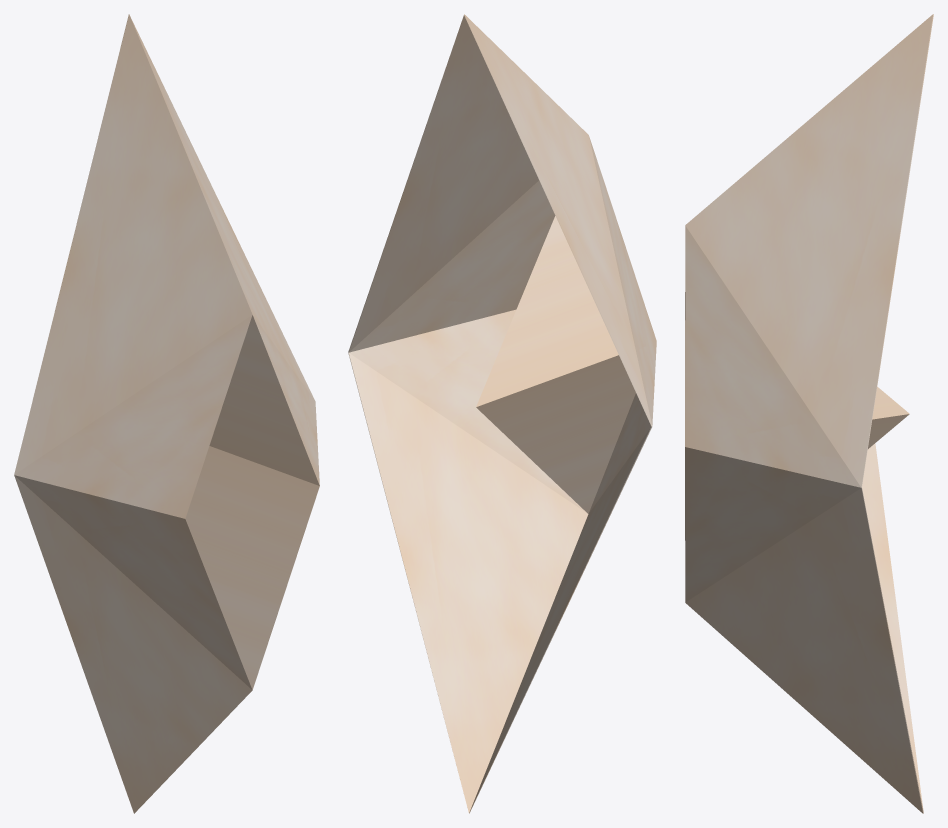
The model's file is paper_boat.glb.
The picture shows the model from 3 angles, left to right: view 1: azimuth 30°, elevation 25°; view 2: azimuth 150°, elevation 25°; view 3: azimuth 270°, elevation 25°; orthographic projection.
Visible parts, largest first — view 1: Paper Boat_0; view 2: Paper Boat_0; view 3: Paper Boat_0.
Part boxes in pixels (bbox=[...]): Paper Boat_0: bbox=[14, 14, 319, 813]; Paper Boat_0: bbox=[348, 14, 656, 813]; Paper Boat_0: bbox=[685, 14, 933, 813].
Size of the model in its own units: 1.84 by 4.66 by 1.31.
Materials: 1 (1 with a texture image).
